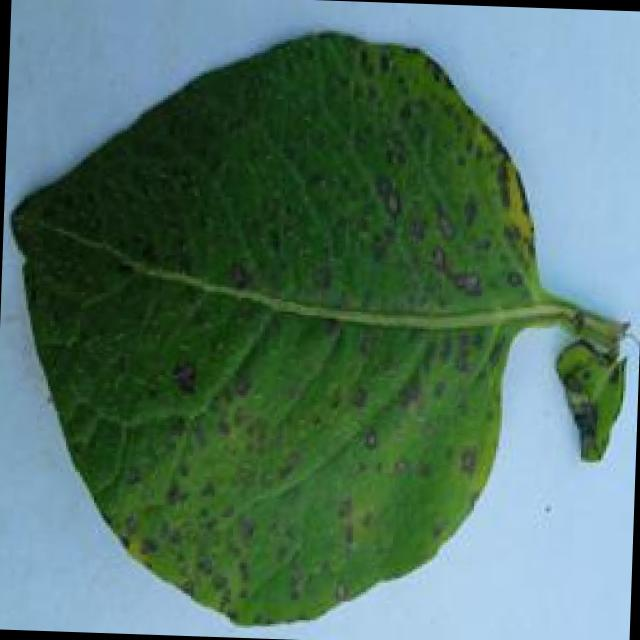Potato_Early_Blight: (0, 19, 551, 629)
